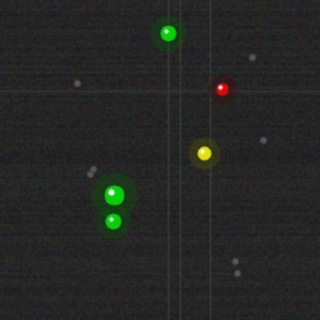green_normal: (102, 183, 126, 207), (103, 211, 123, 231), (158, 23, 178, 43)
red_fault: (214, 81, 230, 97)
yellow_warning: (195, 144, 213, 162)
